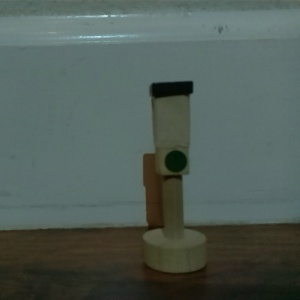traffic light green: (138, 78, 212, 274)
